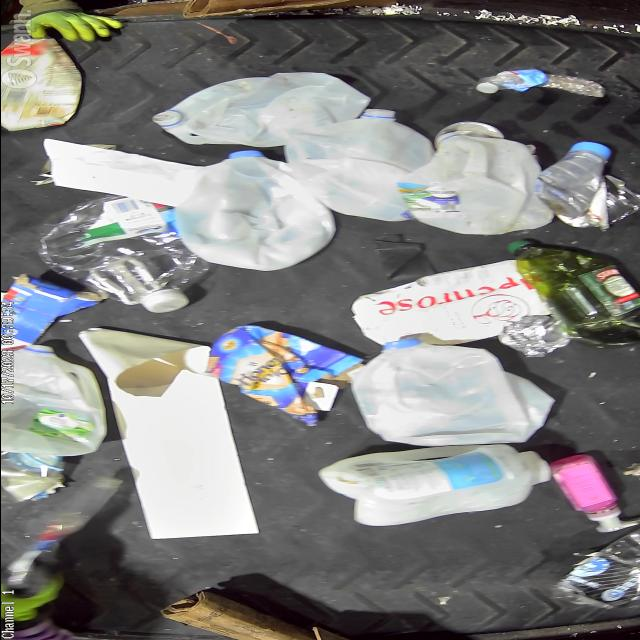milk_jug: (346, 340, 554, 446), (172, 148, 331, 270), (319, 446, 551, 526), (280, 114, 436, 220), (160, 71, 372, 147), (402, 133, 548, 235), (0, 344, 107, 458)
non_white_jug: (0, 39, 82, 132)
plastic_bottle: (34, 195, 210, 312), (474, 73, 604, 98)
